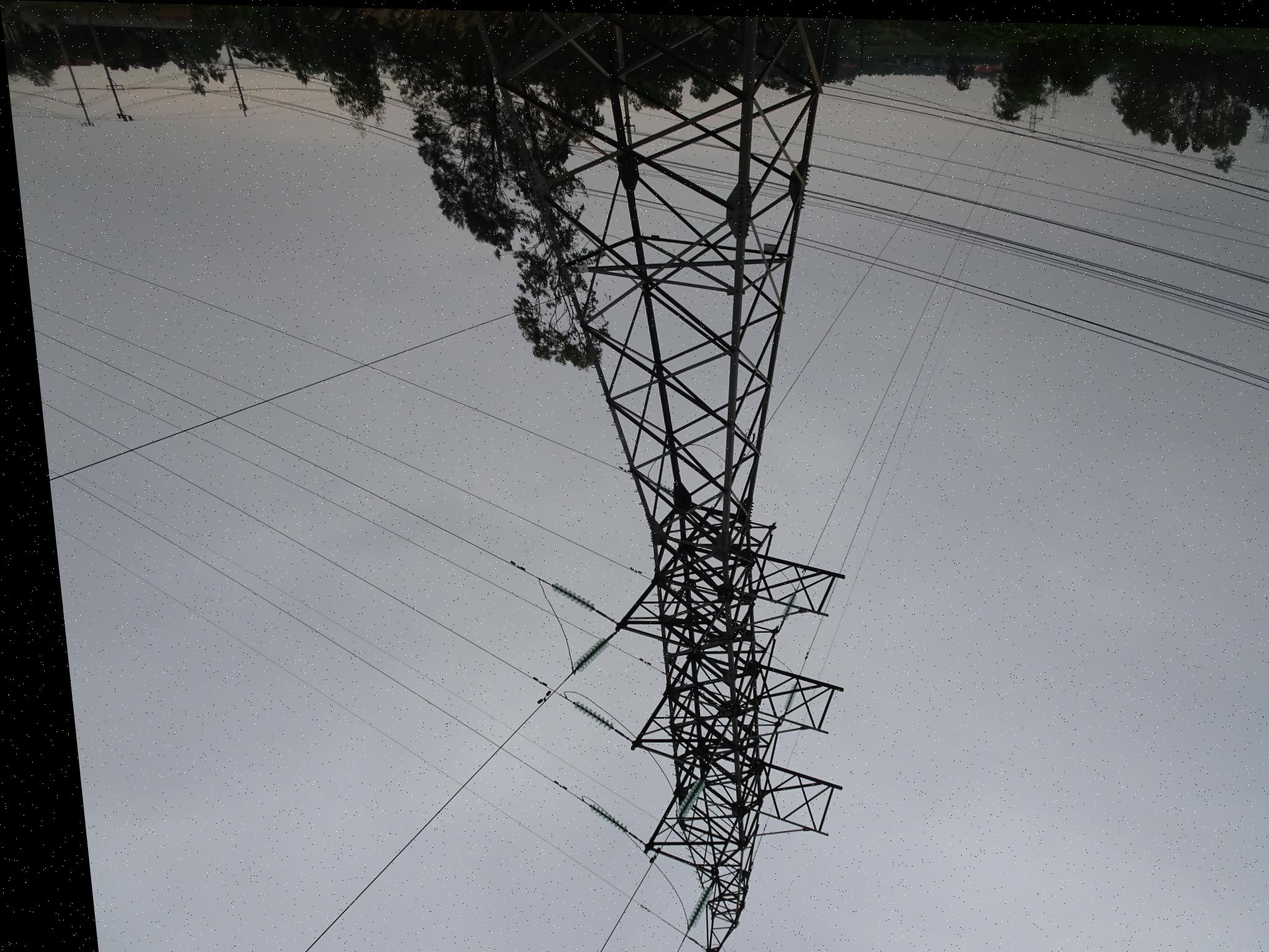tower: (467, 10, 950, 952)
